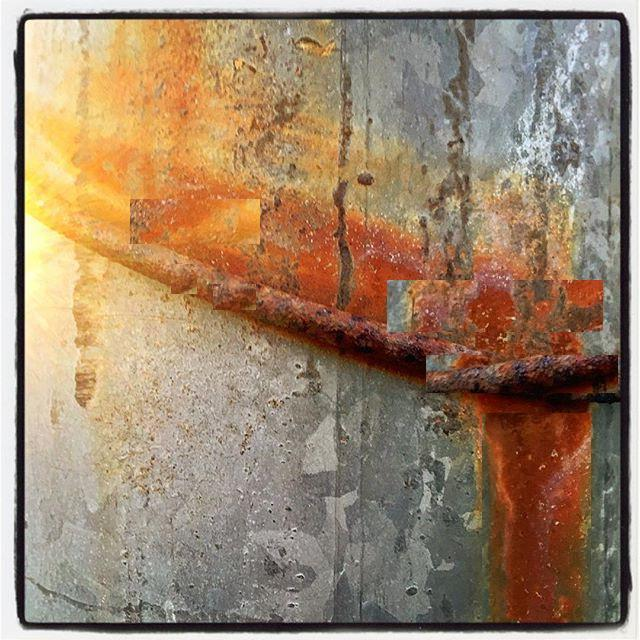Corrosion: (427, 356, 619, 624), (242, 284, 435, 366), (348, 215, 406, 322), (291, 196, 339, 306), (469, 287, 516, 352)
